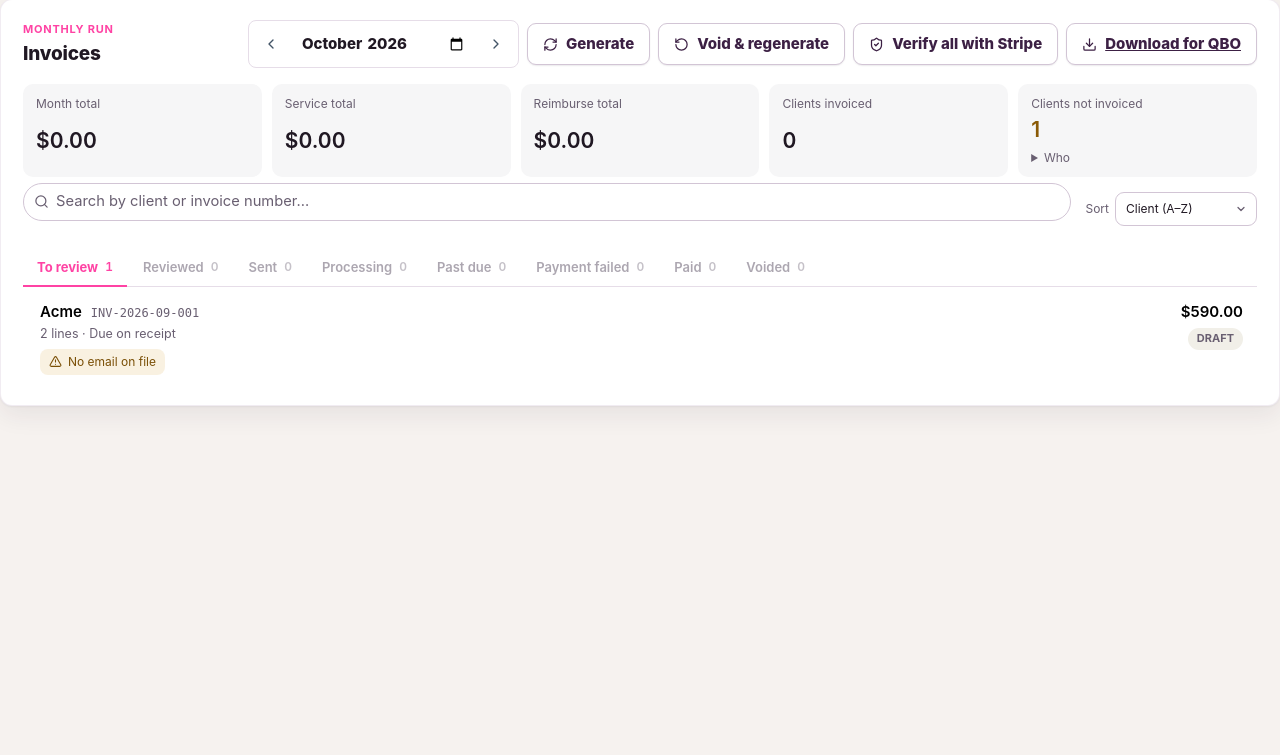
InvoiceMonthRun — changing the covered dates on an unflagged line › offers a collapsed control and none of the warning block
The image size is (1280, 755).
Click the text "INV-2026-09-001". click: (145, 314)
box: [91,305,199,323]
(page scrolled)
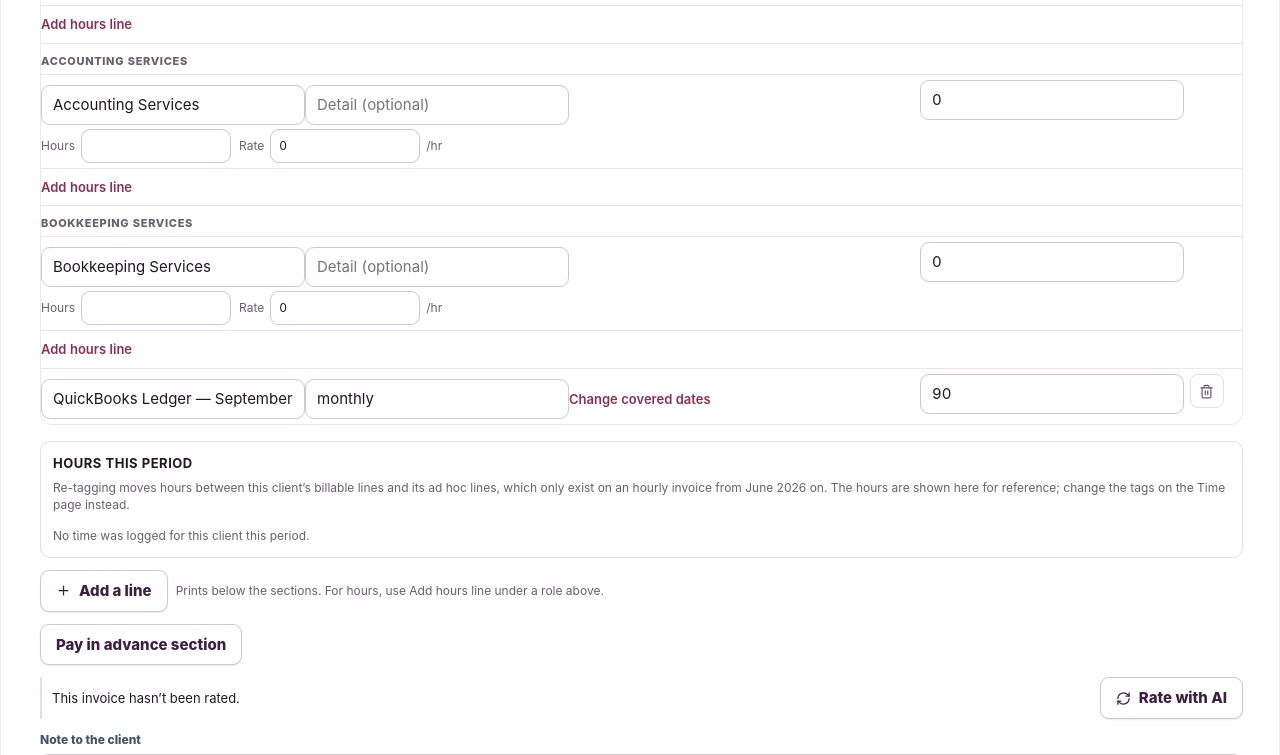
Expected: the button "Change covered dates" is shown, [569,390,711,409]
